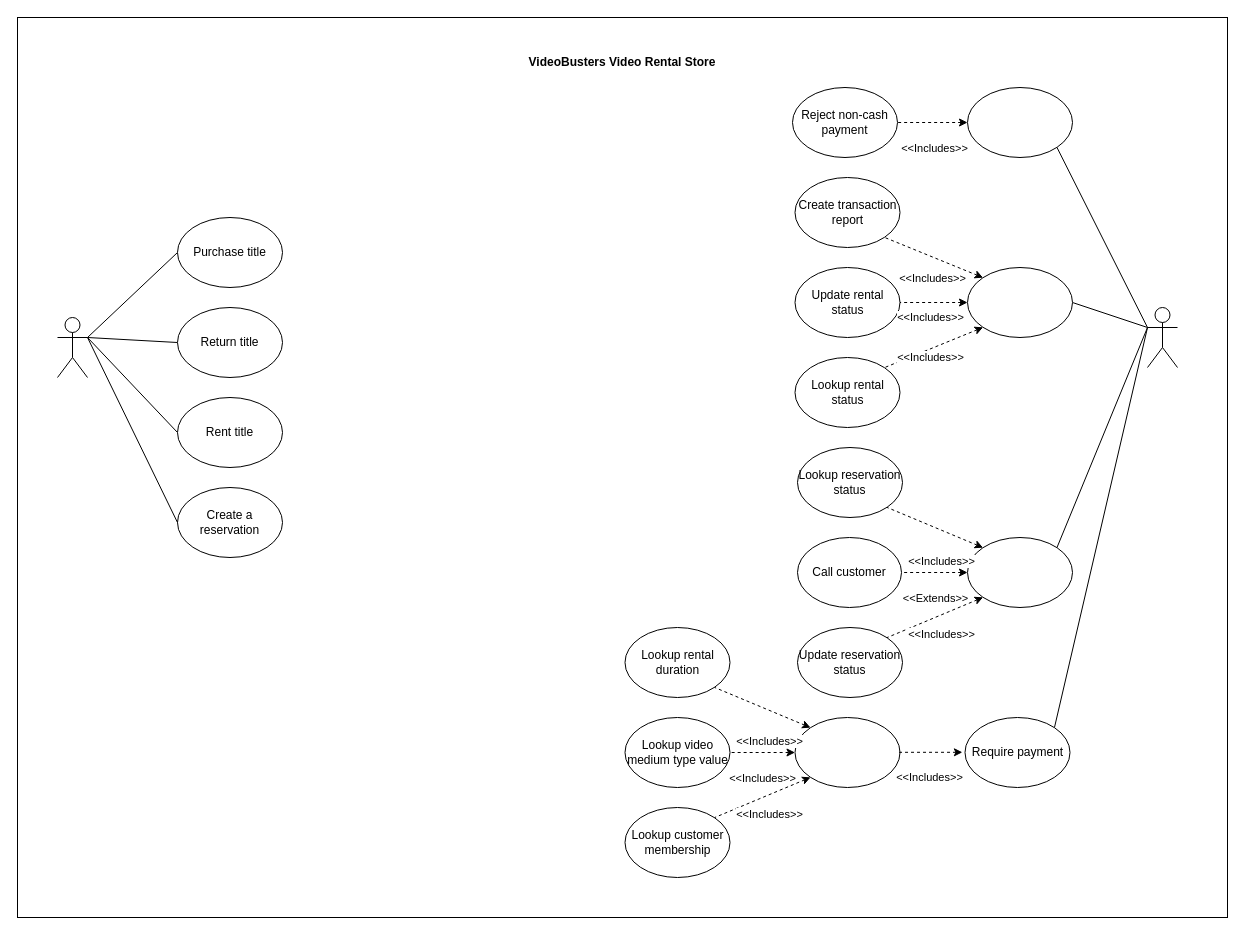
Image size: 1245x935. Some labels were removed from this diagram. The shapes that lost their labels are listed below. From the top down, each one's centre as x and y in pixels, then its label:
At point (1019, 122): "Receive cash payment only".
At point (1019, 302): "Manage rental status".
At point (72, 347): "Customer".
At point (1162, 337): "Librarian".
At point (1019, 572): "Manage reservation".
At point (847, 752): "Calculate price".
